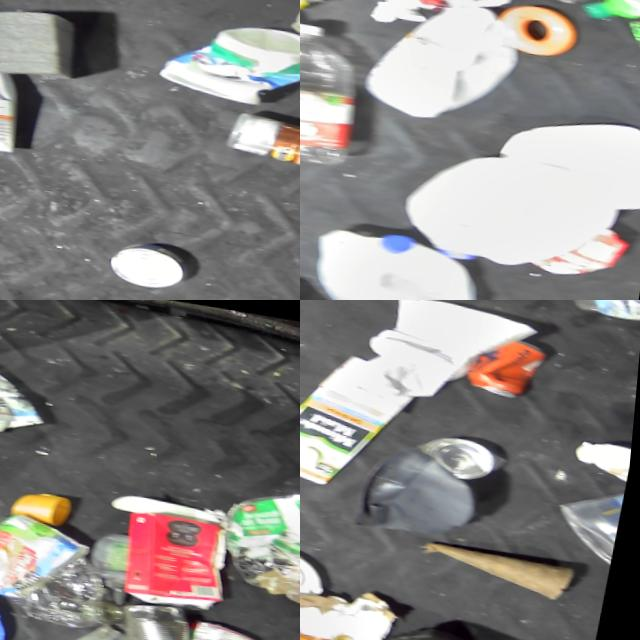can: (460, 321, 573, 402), (419, 417, 516, 490), (121, 590, 208, 640), (192, 611, 282, 640)
milk_jug: (402, 134, 639, 277), (361, 0, 535, 125), (310, 215, 500, 300), (497, 97, 640, 208)
non_white_jug: (96, 484, 247, 607), (415, 0, 528, 17)
plastic_bottle: (300, 10, 377, 166), (556, 300, 640, 317)
